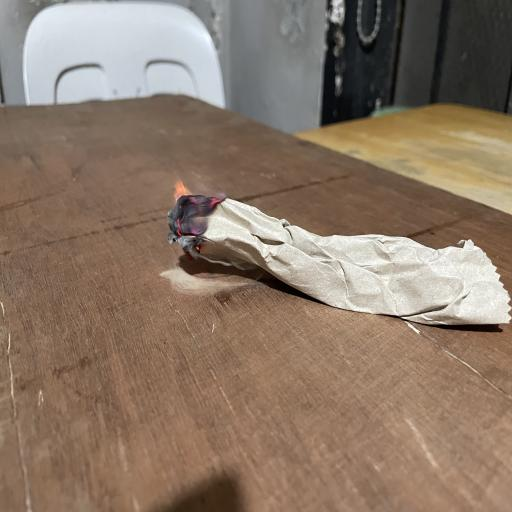fire: (124, 132, 211, 247)
